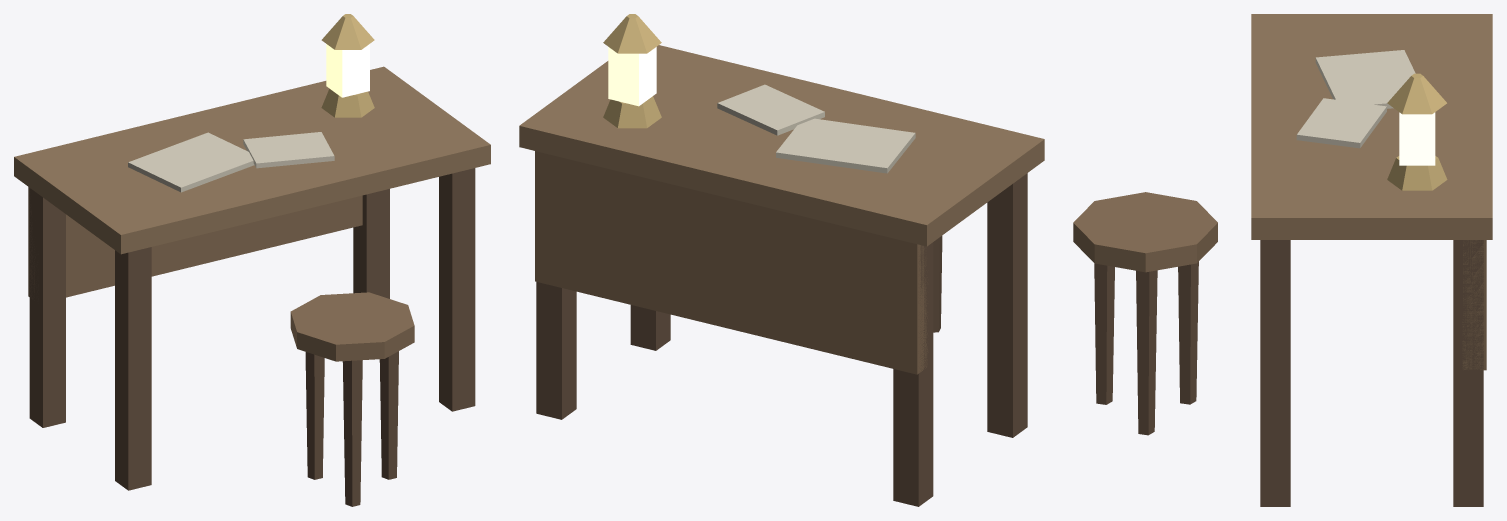
File: desk.glb
3 views of the same model, side by side, from view 1: azimuth 30°, elevation 25°; view 2: azimuth 150°, elevation 25°; view 3: azimuth 270°, elevation 25° (orthographic). The views are drawn at different scales.
Parts seen in each view (by area): view 1: desk; view 2: desk; view 3: desk.
Part boxes in pixels (left/top/right/bottom): desk: left=14, top=14, right=490, bottom=506; desk: left=519, top=14, right=1044, bottom=506; desk: left=1073, top=14, right=1492, bottom=506.
Size of the model in its own units: 1.6 by 1.46 by 1.39.
